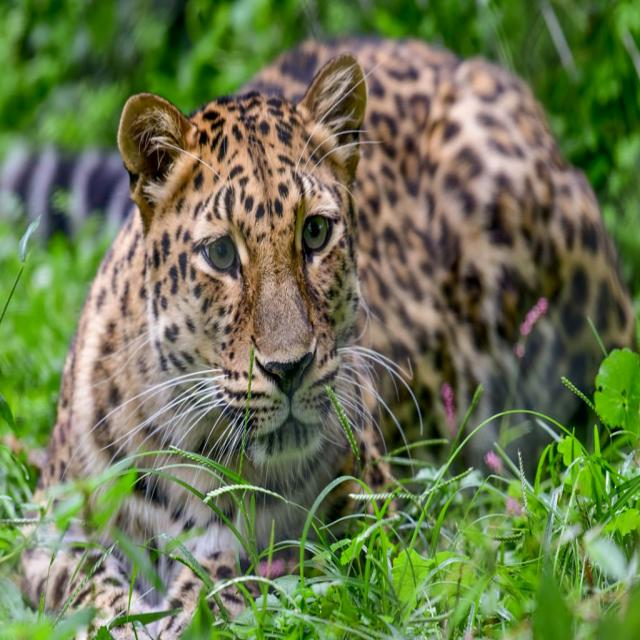leopard: (39, 37, 634, 554)
